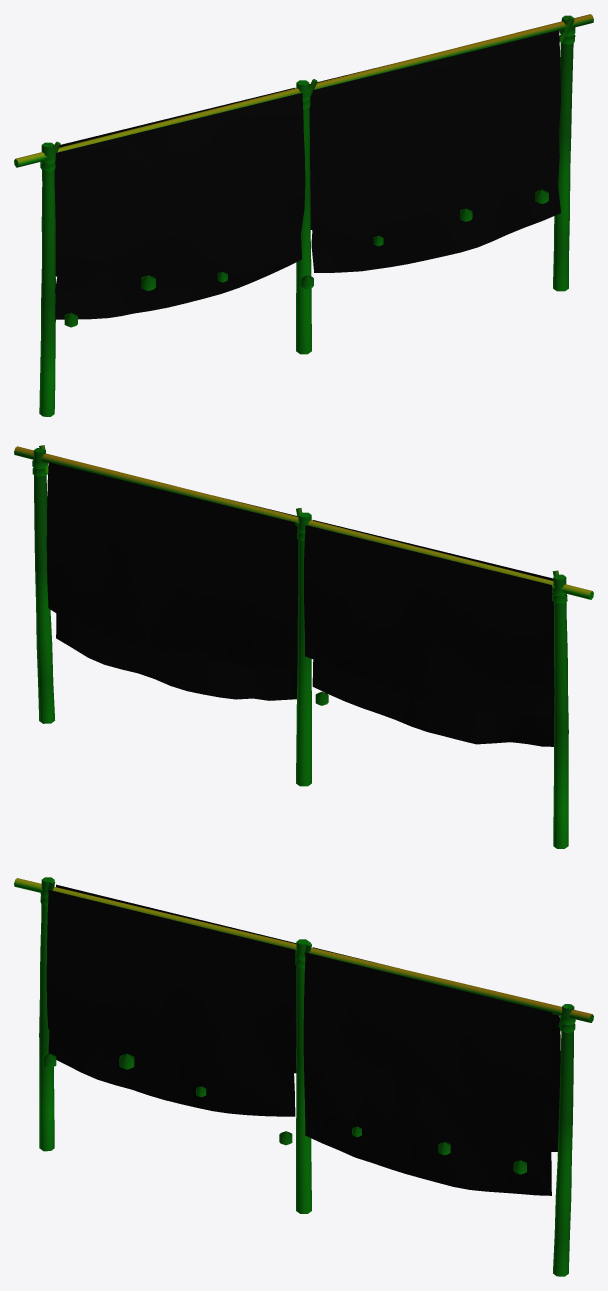
Rendered from net_rack.glb.
3 renders of one model, top to bottom at view 1: azimuth 30°, elevation 25°; view 2: azimuth 150°, elevation 25°; view 3: azimuth 330°, elevation 25°, orthographic.
Visible parts, largest first — view 1: net_rack; view 2: net_rack; view 3: net_rack.
Boxes of the visible parts, x1,y1,x2,y2 form: net_rack: (14, 14, 593, 416); net_rack: (14, 445, 593, 848); net_rack: (14, 877, 593, 1276).
Size of what is drawn, in the model's own units: 5.6 by 2.53 by 0.3592.
